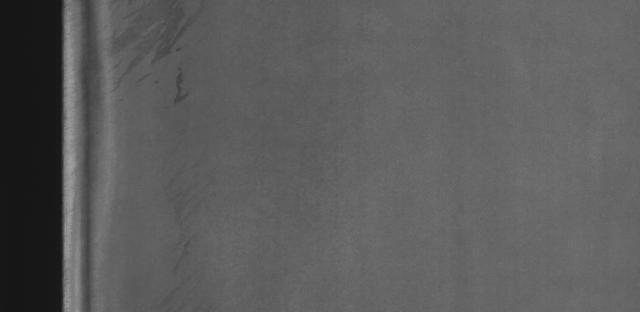water_spot: (110, 0, 222, 113), (158, 152, 234, 285)
